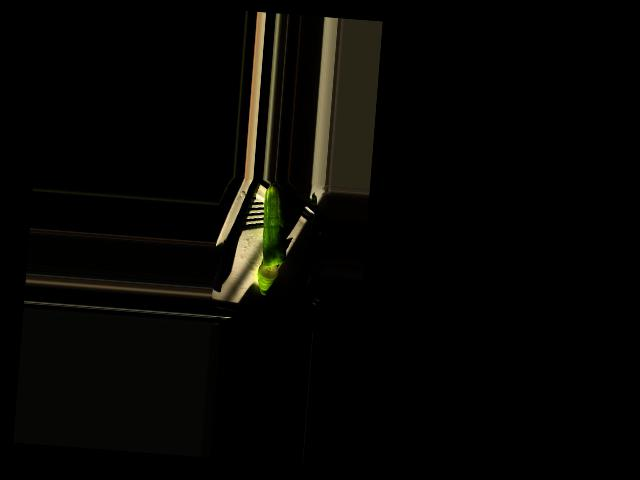cucumber: (259, 182, 290, 268)
